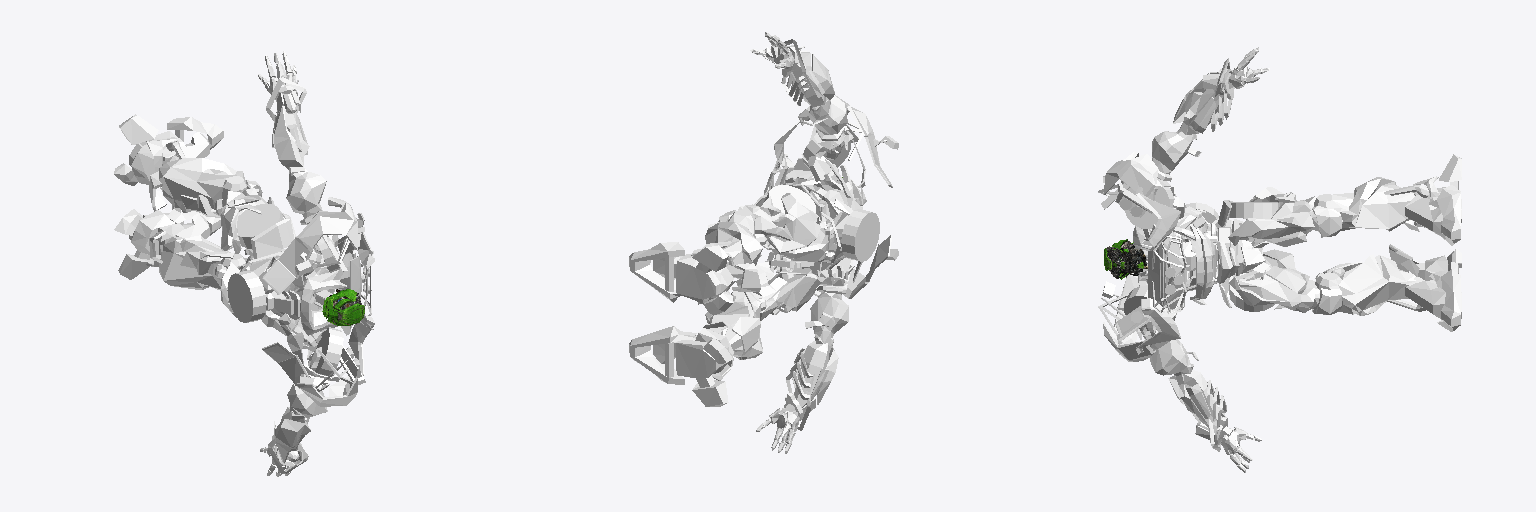
The picture shows the model from 3 angles: view 1: azimuth 30°, elevation 25°; view 2: azimuth 150°, elevation 25°; view 3: azimuth 270°, elevation 25°; orthographic projection.
Parts seen in each view (by area): view 1: C_Root_Reference_XR; view 2: C_Root_Reference_XR; view 3: C_Root_Reference_XR.
Boxes of the visible parts, x1=… form: C_Root_Reference_XR: x1=114, y1=51, x2=374, y2=476; C_Root_Reference_XR: x1=629, y1=32, x2=898, y2=453; C_Root_Reference_XR: x1=1098, y1=47, x2=1461, y2=472.
Bounding box in the file's own units: 212 × 739 × 579.
2 materials, 1 textured.